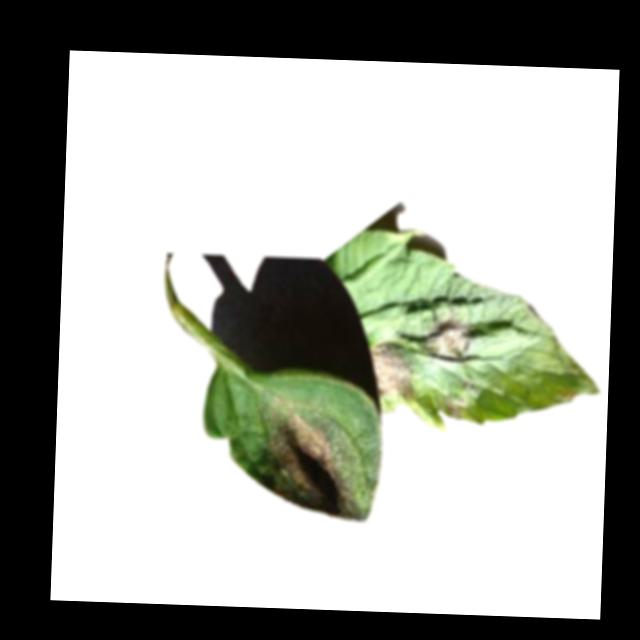Late_blight: (265, 410, 362, 522), (368, 337, 416, 401), (417, 313, 473, 365), (442, 390, 468, 422), (556, 388, 579, 405)
